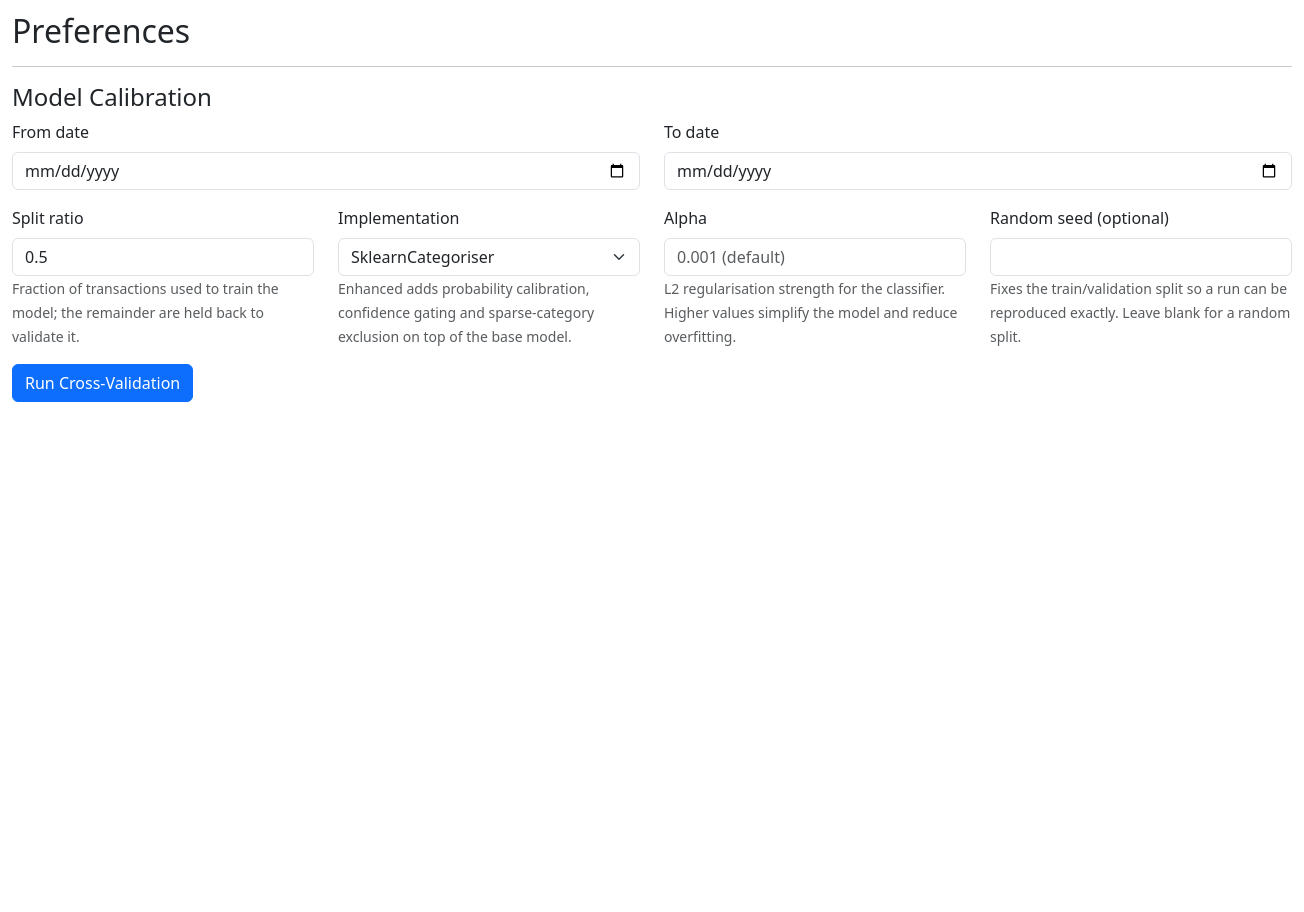
Test: Preferences › should show error on failed cross-validation
This screenshot has width=1304, height=912.
Type "2025-01-01" into the date field labelled "From date" at (326, 171), box [12, 152, 640, 190]
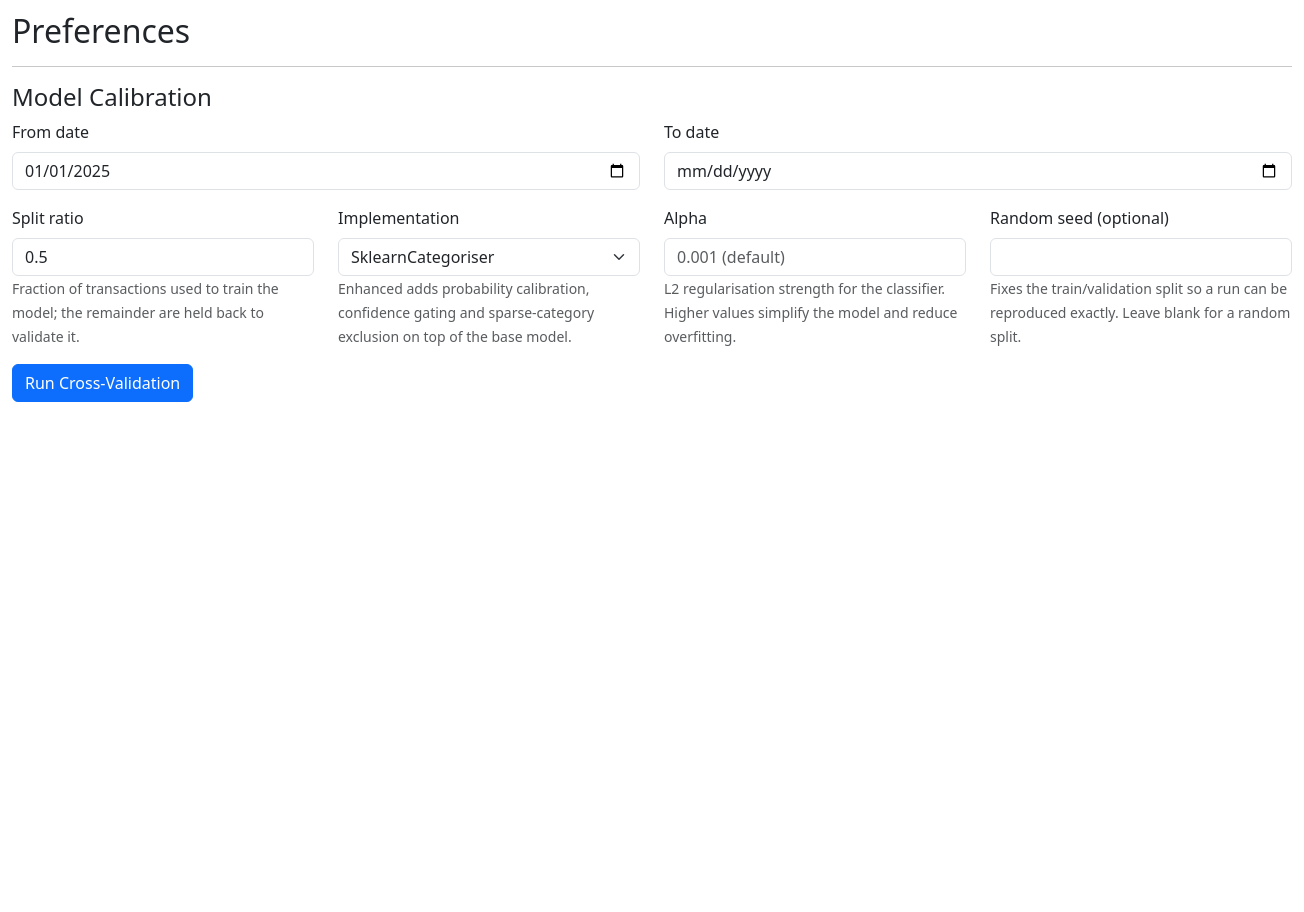
Type "2025-12-31" into the date field labelled "To date" at (978, 171), box [664, 152, 1292, 190]
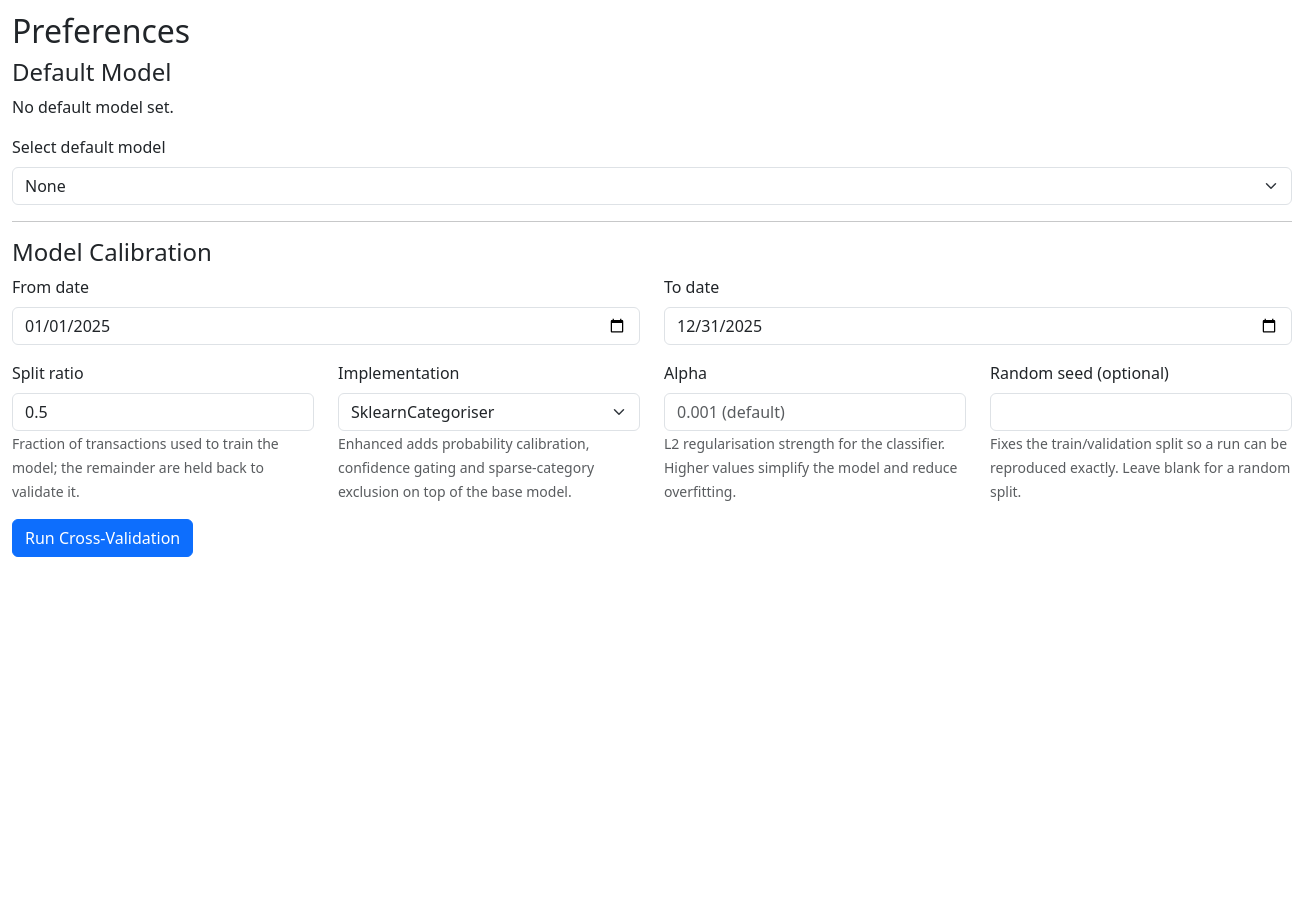
Click the button "Run Cross-Validation" at (103, 538), box [12, 519, 193, 557]
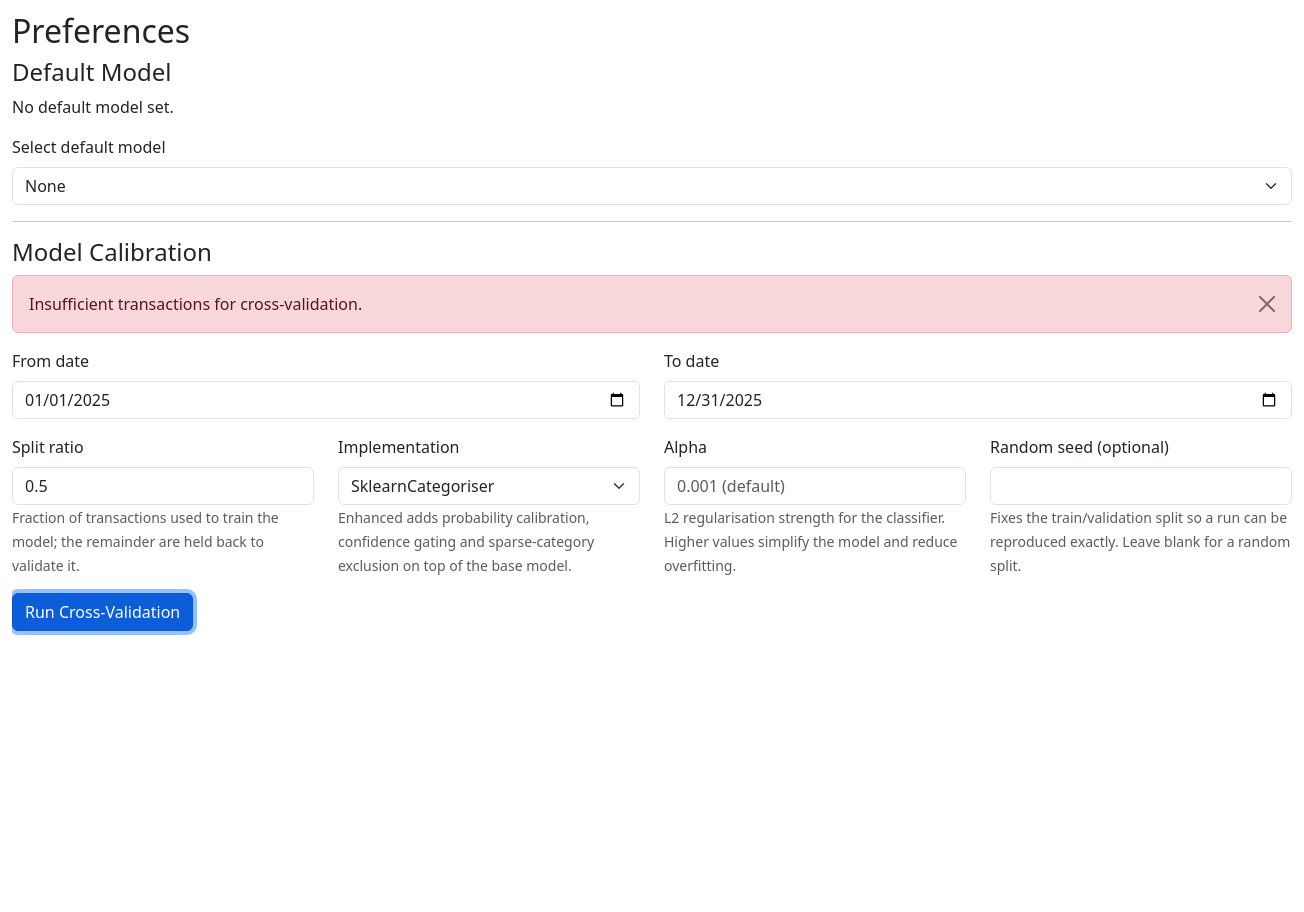
Expected: the text "Insufficient transactions for cross-validation." is shown, [12, 275, 1292, 333]
